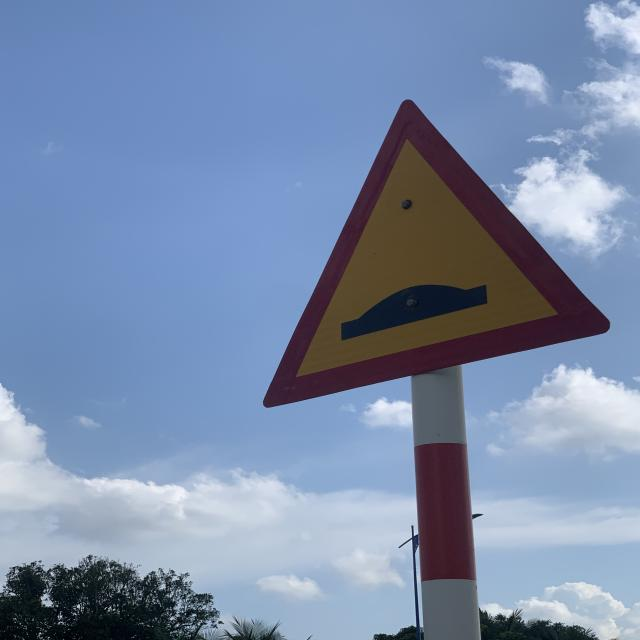Duong_Cong_Ben_Phai: (265, 94, 610, 410)
